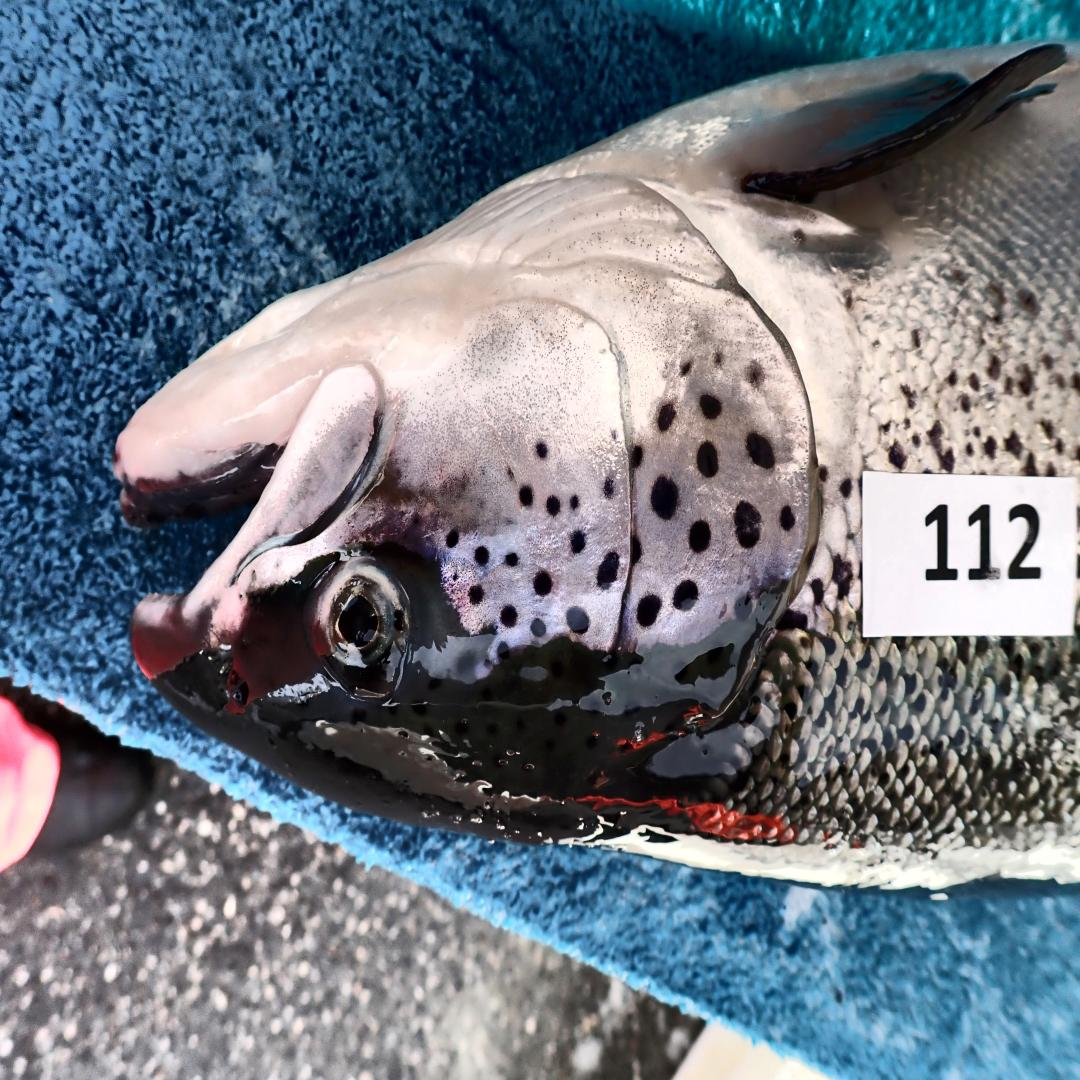spot: (650, 475, 679, 520), (734, 501, 761, 548), (747, 433, 774, 470), (597, 551, 620, 588), (696, 442, 719, 478), (637, 593, 660, 627), (673, 579, 698, 610), (688, 520, 711, 551), (567, 608, 591, 633), (656, 402, 677, 430), (745, 360, 766, 388), (734, 593, 753, 622), (700, 394, 721, 419), (534, 571, 553, 596), (778, 506, 795, 532), (570, 529, 586, 554), (500, 605, 517, 627), (468, 585, 485, 605), (529, 619, 546, 638), (546, 495, 561, 515), (519, 487, 534, 506), (445, 529, 460, 548), (631, 537, 641, 565), (475, 546, 489, 565), (411, 512, 426, 529), (713, 346, 724, 368), (633, 444, 643, 467), (498, 642, 510, 661), (679, 360, 692, 377), (603, 478, 614, 498), (504, 551, 519, 565), (536, 442, 548, 458), (570, 495, 580, 509), (506, 467, 515, 481), (452, 569, 459, 583), (610, 429, 618, 441)
